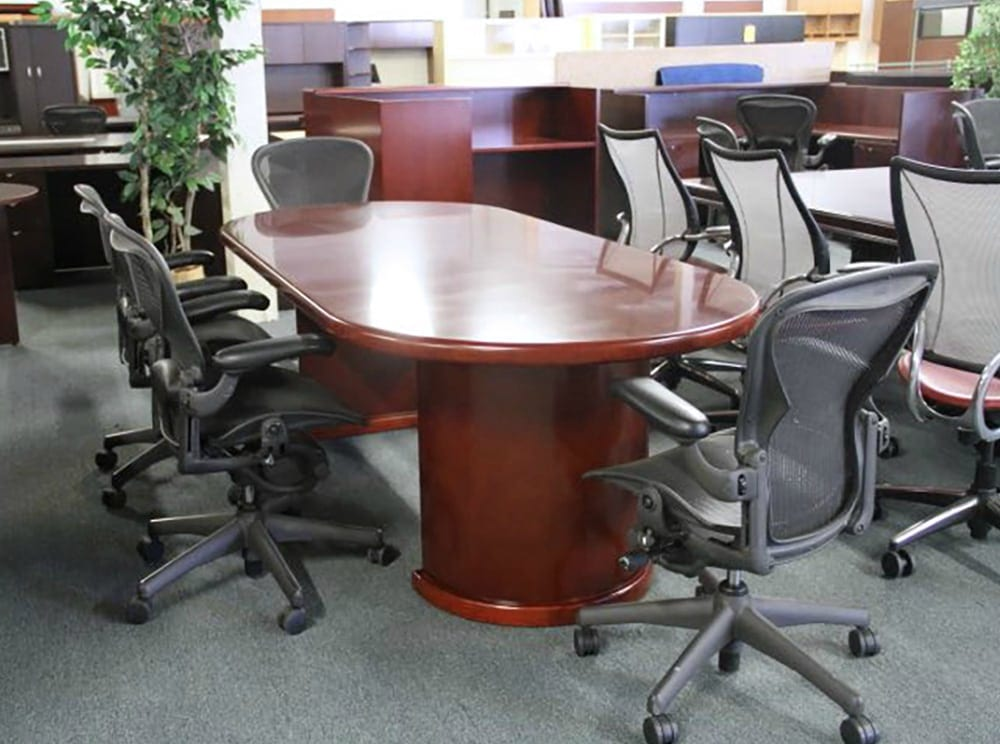conference_table: (218, 199, 755, 629), (674, 166, 1000, 239)
